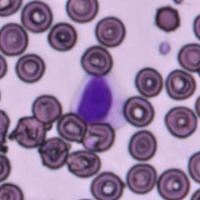L: (69, 72, 128, 127)
